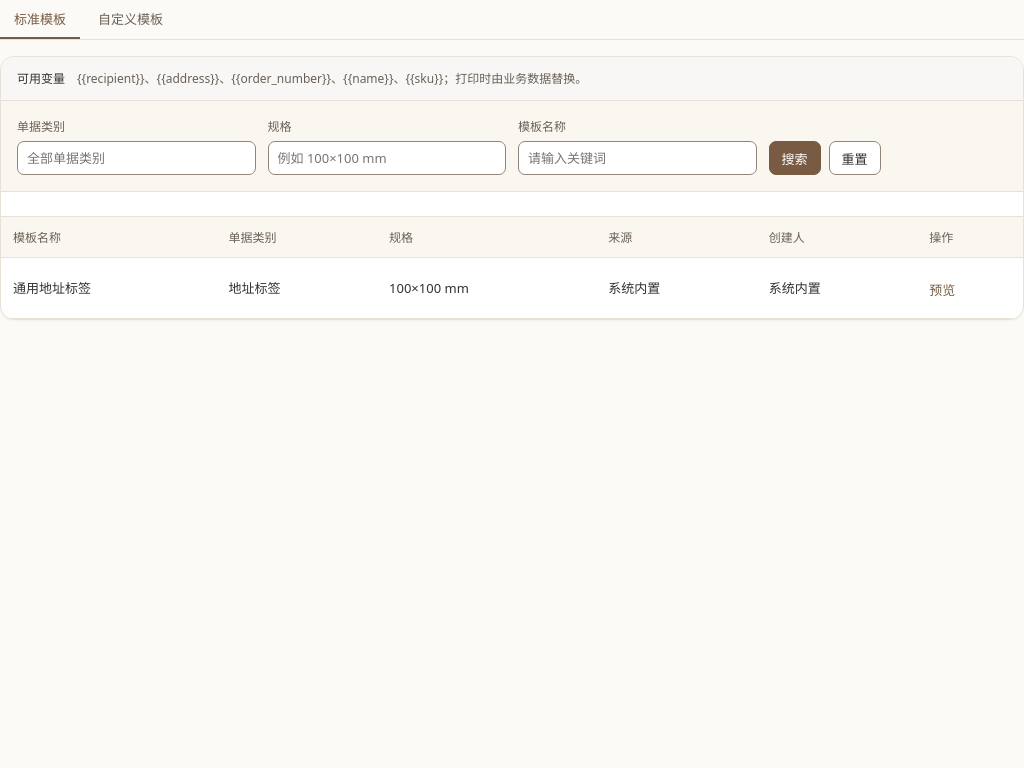
Test case: logistics label templates › loads and previews a standard template
Expected: the text "通用地址标签" is shown, [13, 279, 91, 297]
Click the button "预览" at (942,290), box [929, 272, 955, 308]
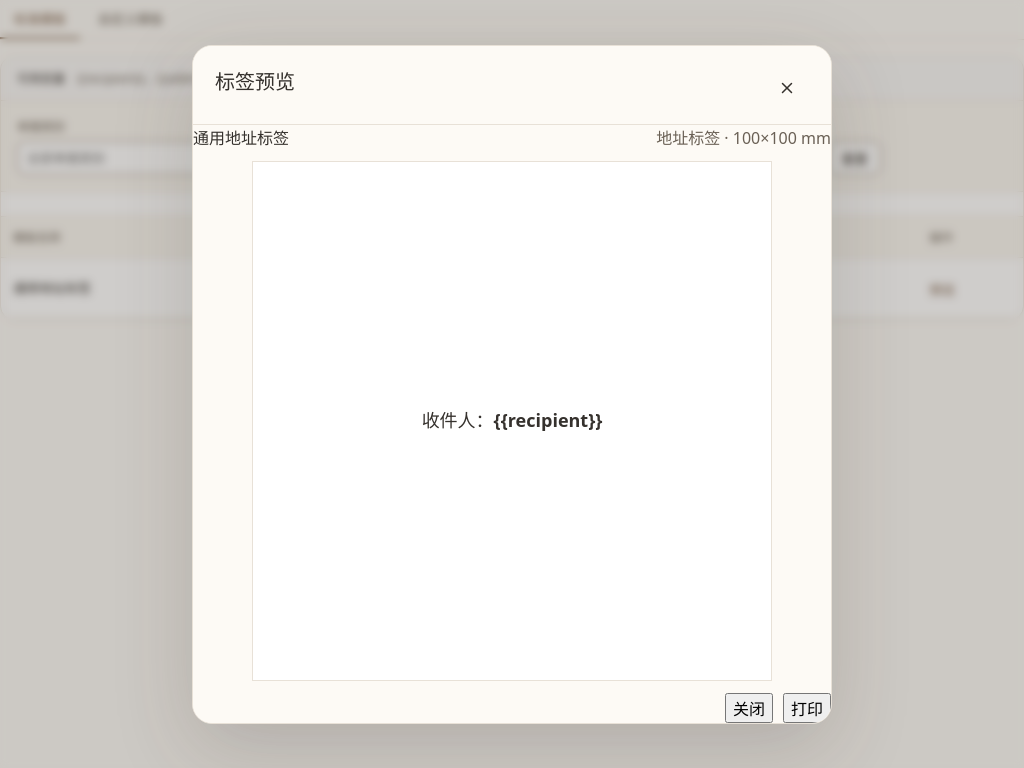
Result: the dialog "标签预览" is shown at [192, 44, 832, 724]
Result: the text "收件人：{{recipient}}" is shown at [252, 160, 772, 680]
